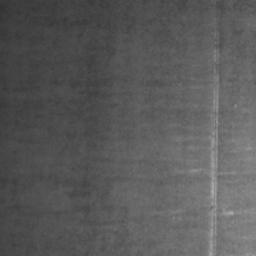Bright scratch: (209, 47, 220, 256)
